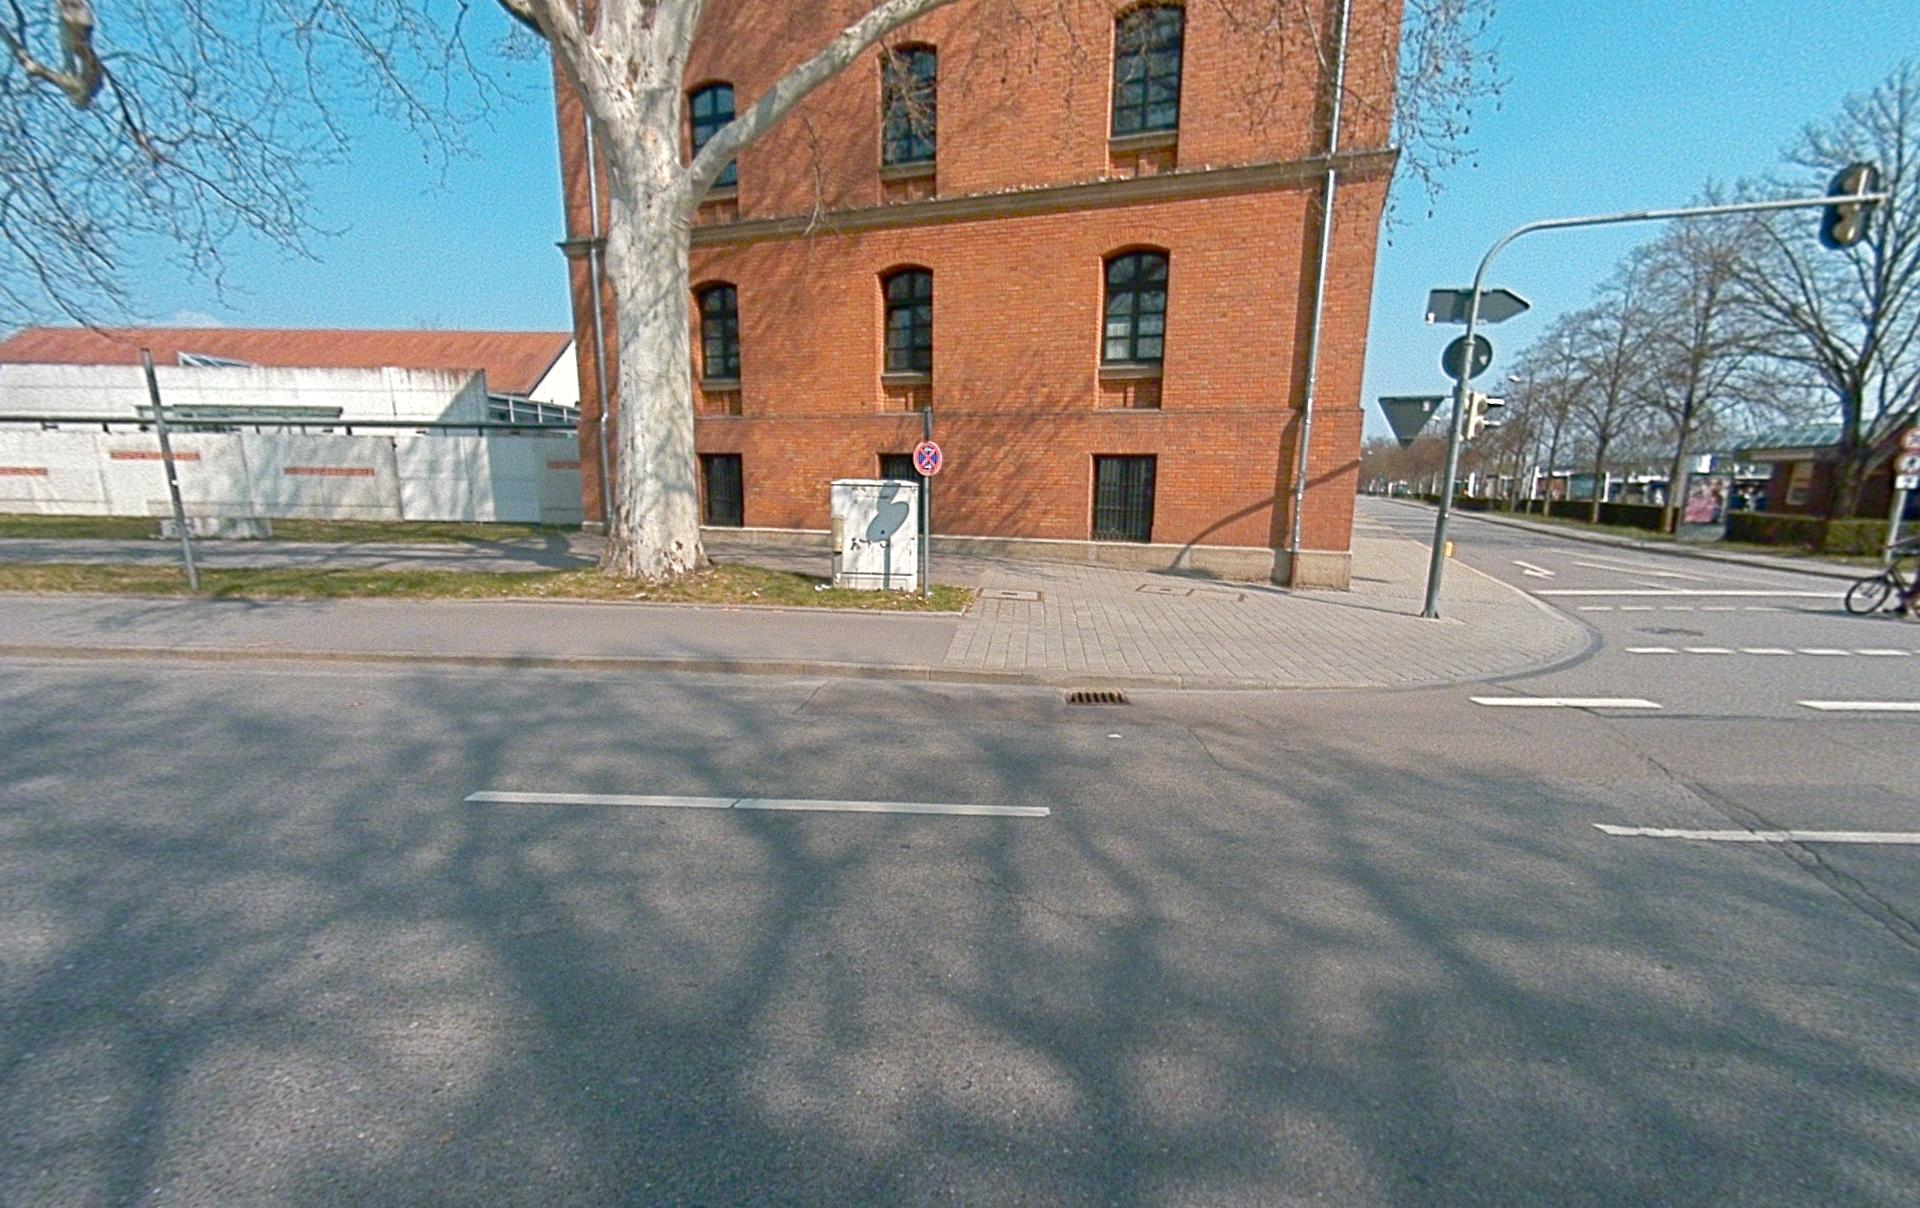traffic sign: (1425, 286, 1531, 324), (1442, 334, 1493, 380), (912, 440, 942, 476)
